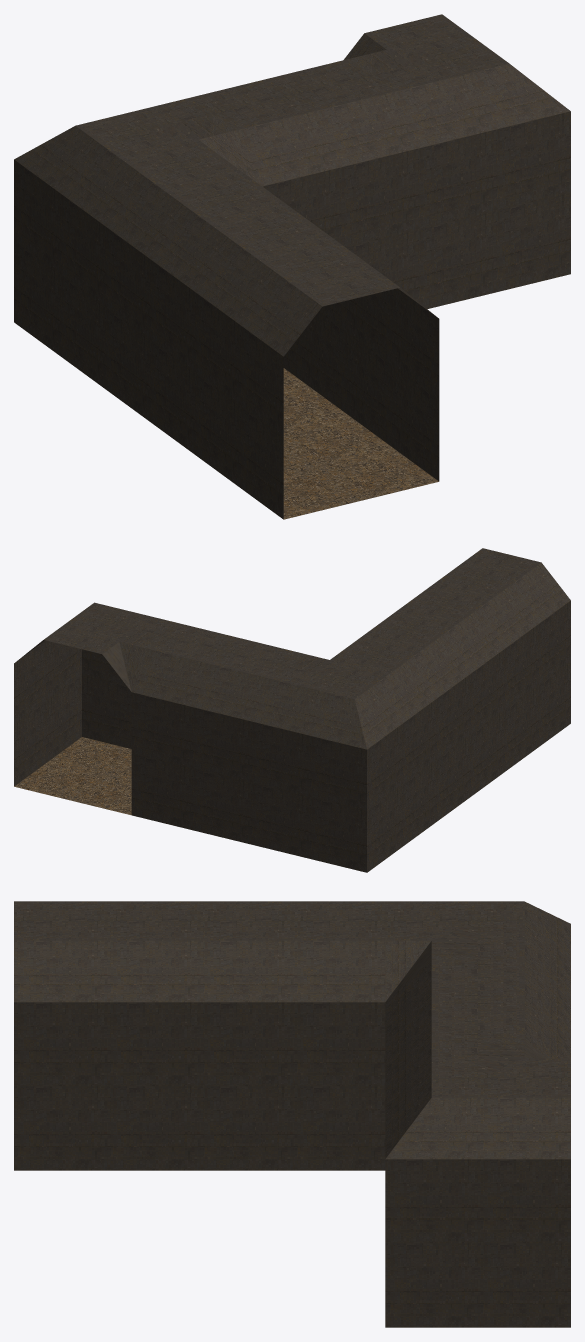
Rendered from dungeonBuild.gltf.
The picture shows the model from 3 angles, top to bottom: view 1: azimuth 30°, elevation 25°; view 2: azimuth 150°, elevation 25°; view 3: azimuth 270°, elevation 25°; orthographic projection. The views are drawn at different scales.
Visible parts, largest first — view 1: CornerOuter-col.001; view 2: CornerOuter-col.001; view 3: CornerOuter-col.001.
Part boxes in pixels (bbox=[...]): CornerOuter-col.001: bbox=[14, 14, 570, 519]; CornerOuter-col.001: bbox=[14, 548, 570, 872]; CornerOuter-col.001: bbox=[14, 901, 570, 1327].
Size of the model in its own units: 6 by 2.5 by 6.
2 materials, 2 textured.
